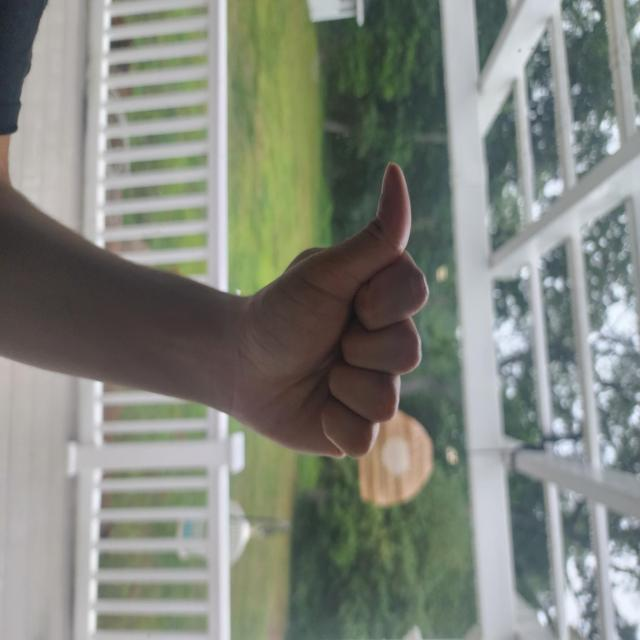A: (281, 277, 510, 528)
